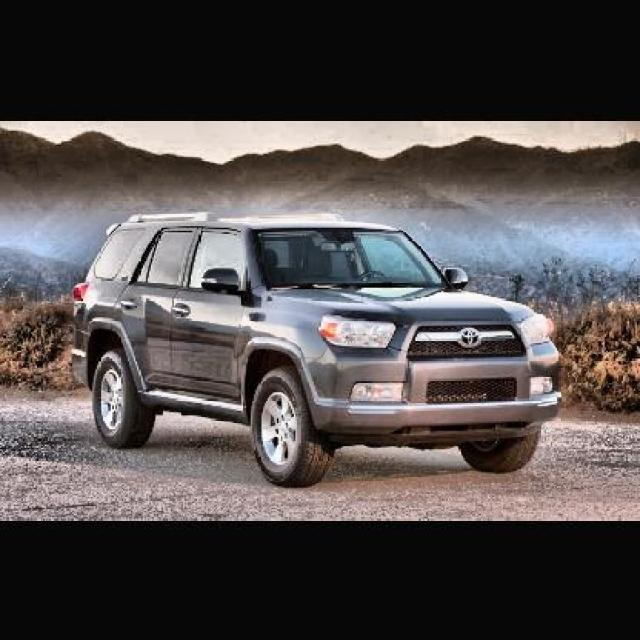black: (86, 199, 556, 473)
